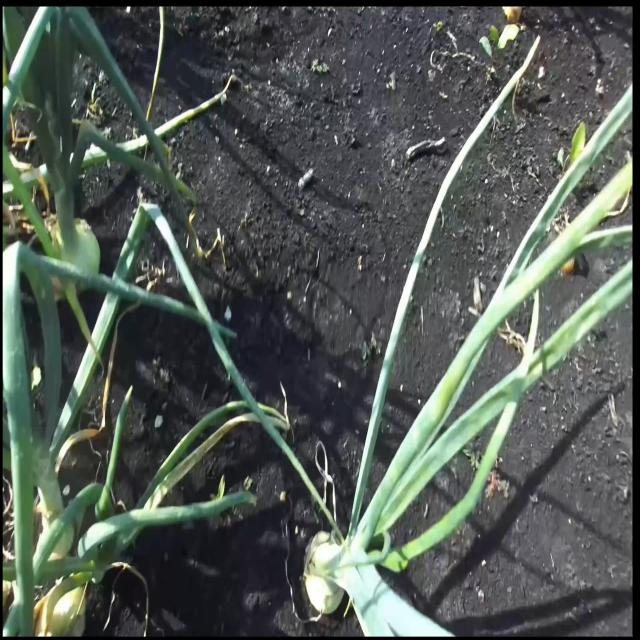onion: (44, 214, 98, 292), (306, 534, 348, 622)
